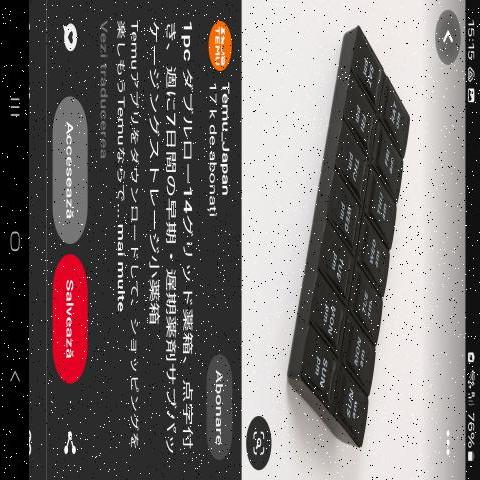PillBox: (284, 16, 449, 450)
